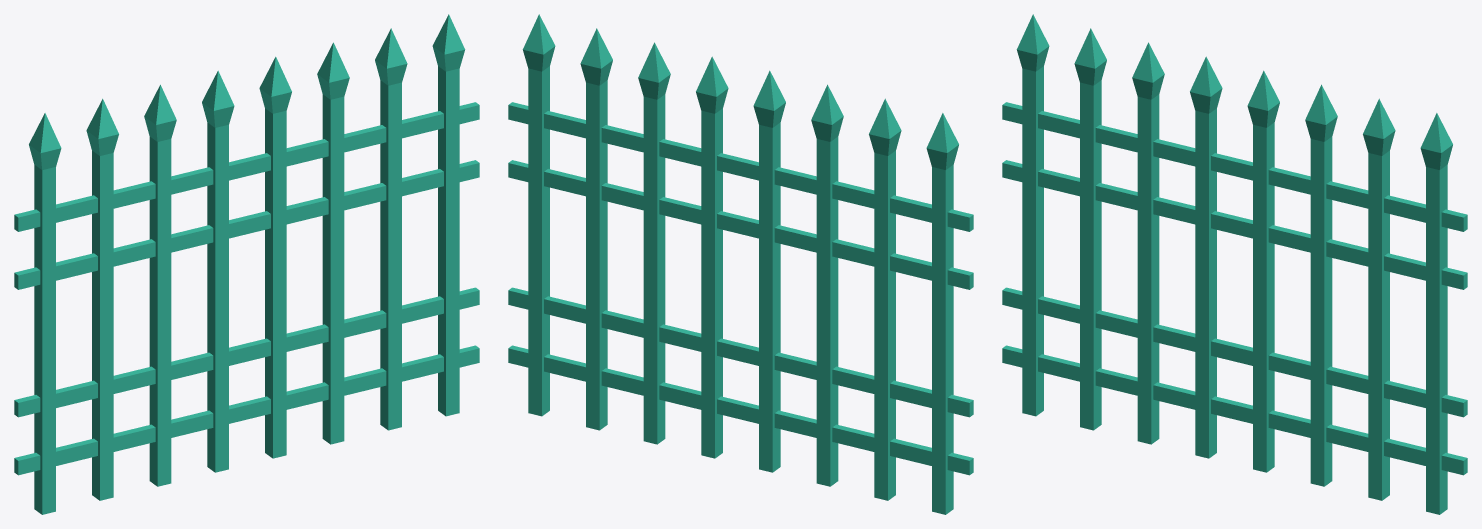
Rendered from d_kenney_grille_fine.glb.
3 renders of one model, left to right at view 1: azimuth 30°, elevation 25°; view 2: azimuth 150°, elevation 25°; view 3: azimuth 330°, elevation 25°, orthographic.
Visible parts, largest first — view 1: d_kenney_grille_fine; view 2: d_kenney_grille_fine; view 3: d_kenney_grille_fine.
Boxes of the visible parts, left/top/right/bottom form: d_kenney_grille_fine: left=14, top=14, right=479, bottom=514; d_kenney_grille_fine: left=508, top=14, right=973, bottom=514; d_kenney_grille_fine: left=1002, top=14, right=1467, bottom=514.
Size of the model in its own units: 1 by 0.824 by 0.045.
1 material, 1 textured.
